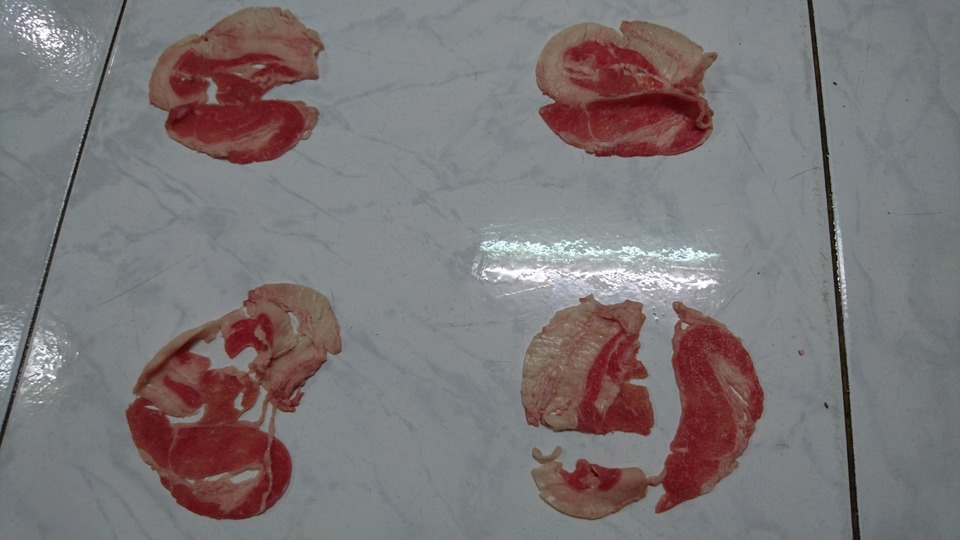restructured meat: (520, 292, 768, 522), (125, 282, 350, 520), (530, 5, 714, 162), (150, 6, 322, 168)
